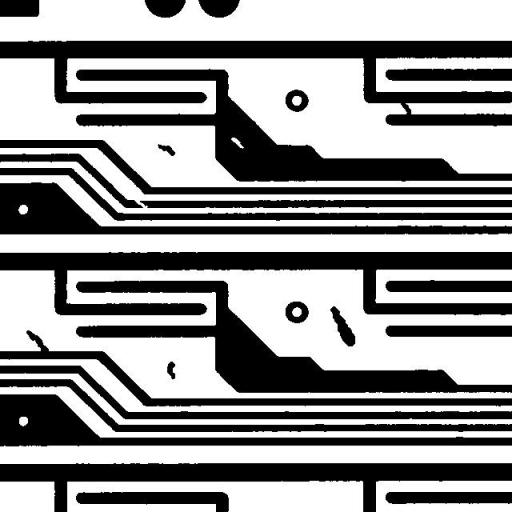copper: (322, 298, 362, 354), (150, 136, 182, 163), (160, 354, 182, 386)
open: (126, 191, 156, 216)
pin-hole: (223, 130, 251, 156)
short: (393, 94, 418, 123)
spur: (18, 322, 56, 361)
